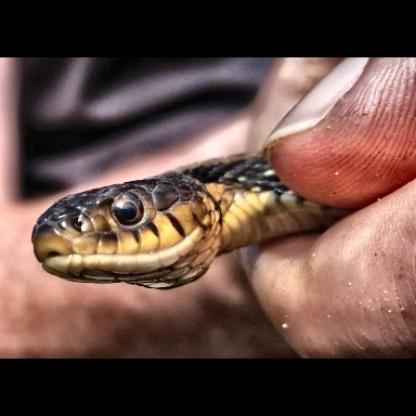Snake: (30, 153, 309, 295)
